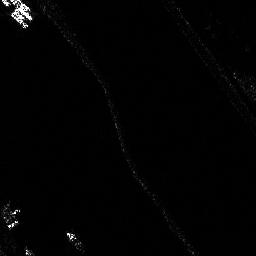ship: (65, 230, 87, 252)
